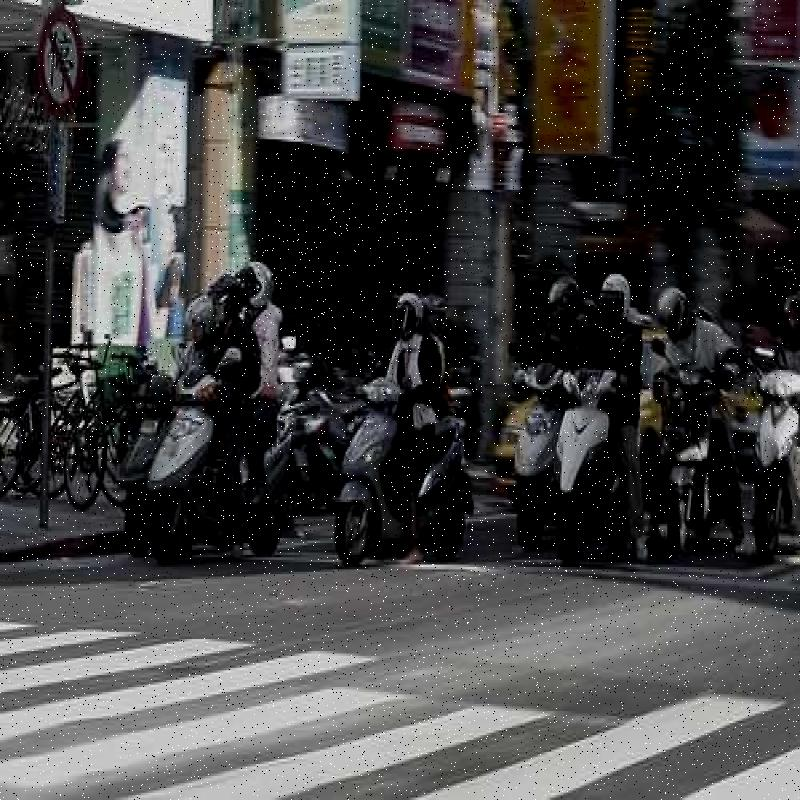bike: (336, 372, 436, 560), (155, 362, 253, 550), (659, 352, 730, 567), (548, 362, 626, 542), (755, 355, 800, 565)
